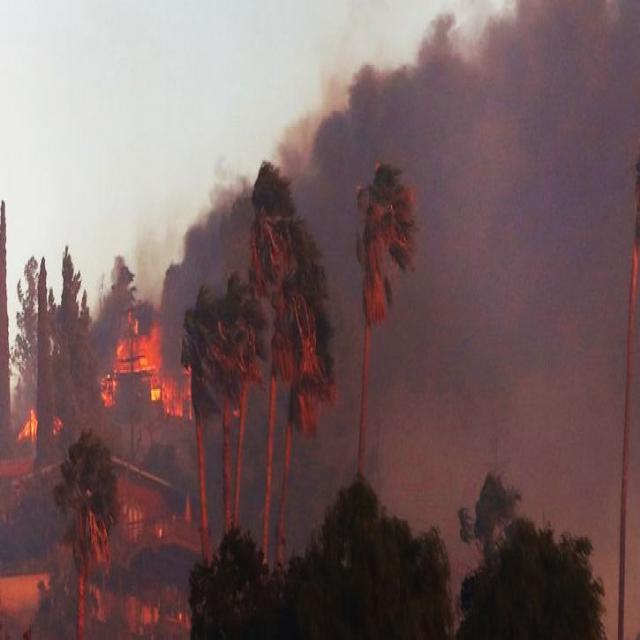Fire: (102, 307, 184, 418)
